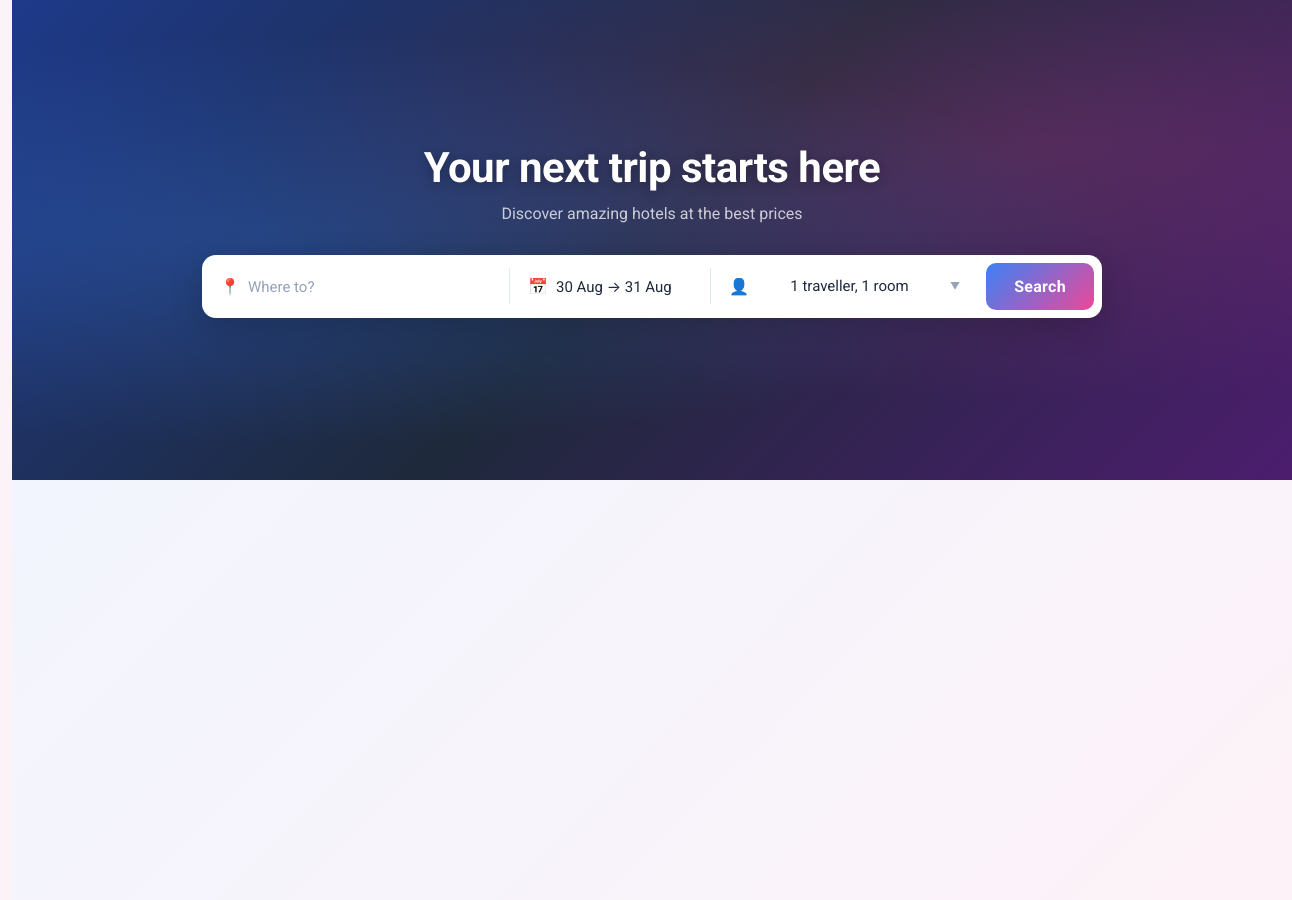
Scenario: HomePage province search › navigates with the selected province and every search criterion
Type "da nang" into the dropdown at (370, 286), box [248,278,491,296]
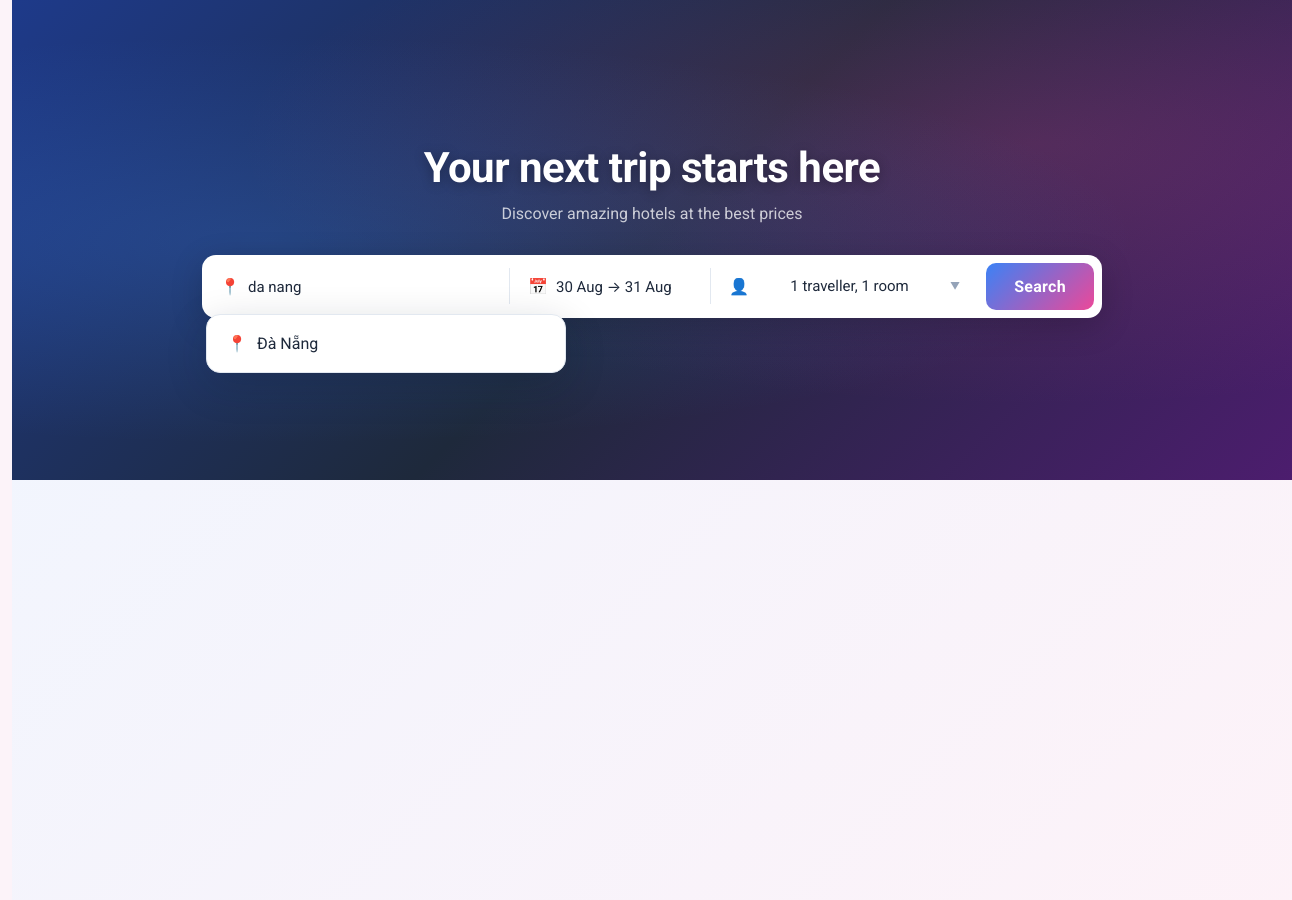
Click the option "📍 Đà Nẵng" at (288, 343), box [215,322,557,364]
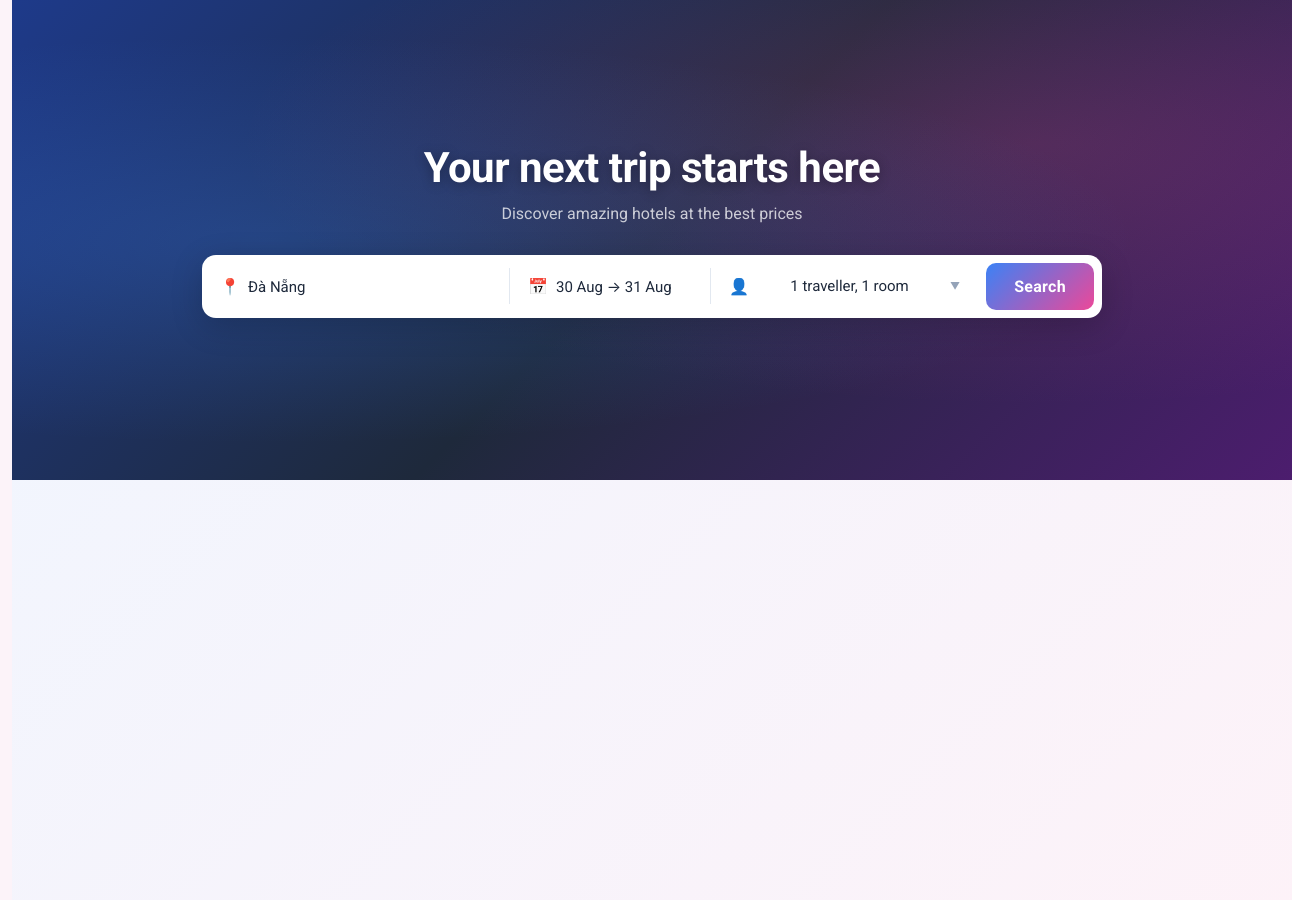
Click the button "Search" at (1040, 286), box [986,262,1094,310]
(page scrolled)
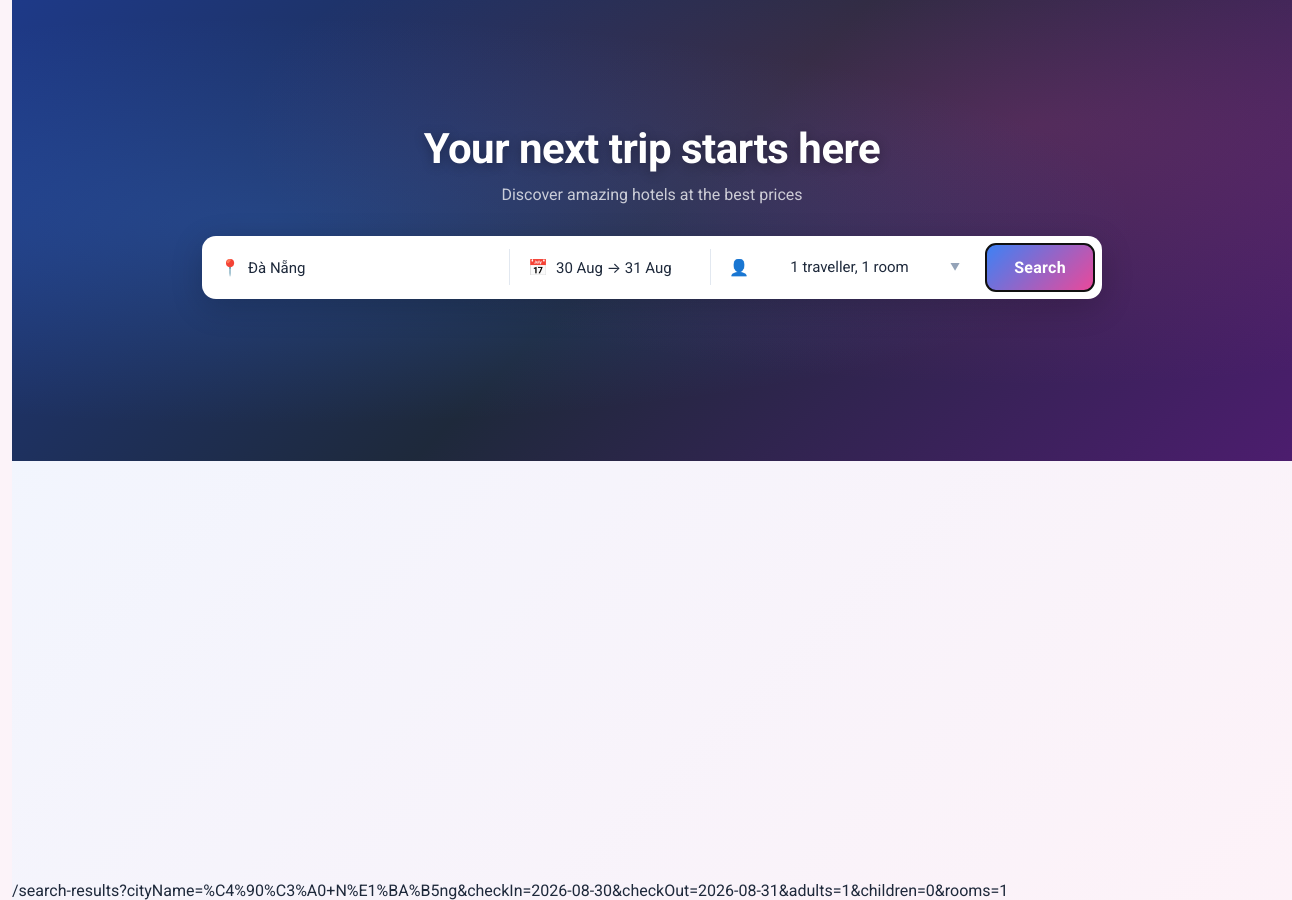
Now the text with test id "location" shows "/search-results?", box [12,881,1008,899]
Now the text with test id "location" shows "cityName=%C4%90%C3%A0+N%E1%BA%B5ng", box [12,881,1008,899]
Now the text with test id "location" shows "adults=1&children=0&rooms=1", box [12,881,1008,899]
